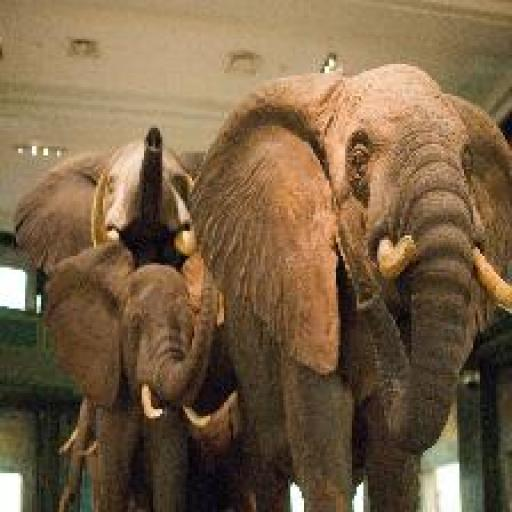Elephant: (185, 62, 510, 510)
